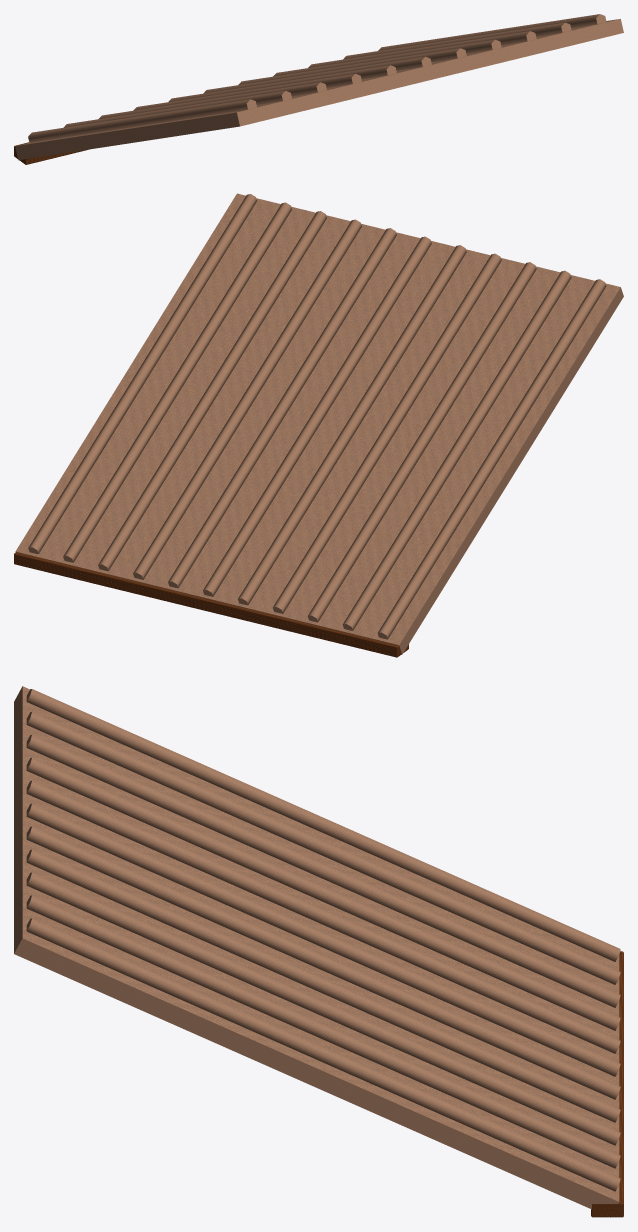
File: tactical-shooter-hill-town-roof-tile-slope-7a571081__27518.glb
3 renders of one model, top to bottom at view 1: azimuth 30°, elevation 25°; view 2: azimuth 150°, elevation 25°; view 3: azimuth 270°, elevation 25°, orthographic. The views are drawn at different scales.
Visible parts, largest first — view 1: roof-tile-slope; view 2: roof-tile-slope; view 3: roof-tile-slope.
Boxes of the visible parts, x1,y1,x2,y2 form: roof-tile-slope: (14, 14, 623, 164); roof-tile-slope: (14, 193, 623, 657); roof-tile-slope: (14, 686, 623, 1217).
Size of the model in its own units: 4 by 2.13 by 4.09.
2 materials, 2 textured.
